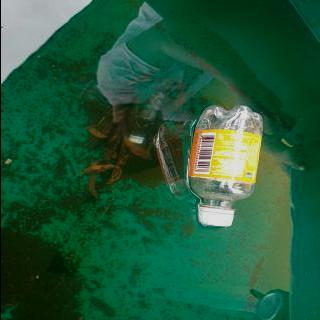bottle: (185, 105, 264, 227)
